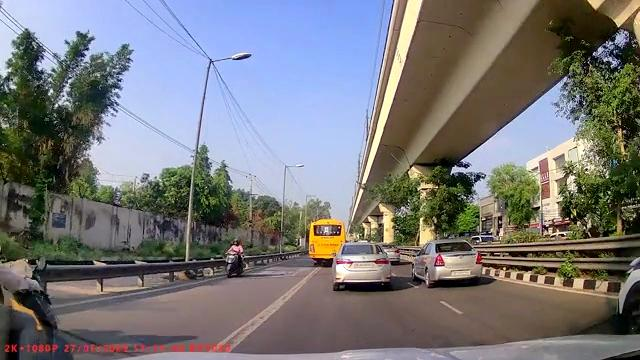motorcycle_with_helmet: (225, 236, 247, 277)
